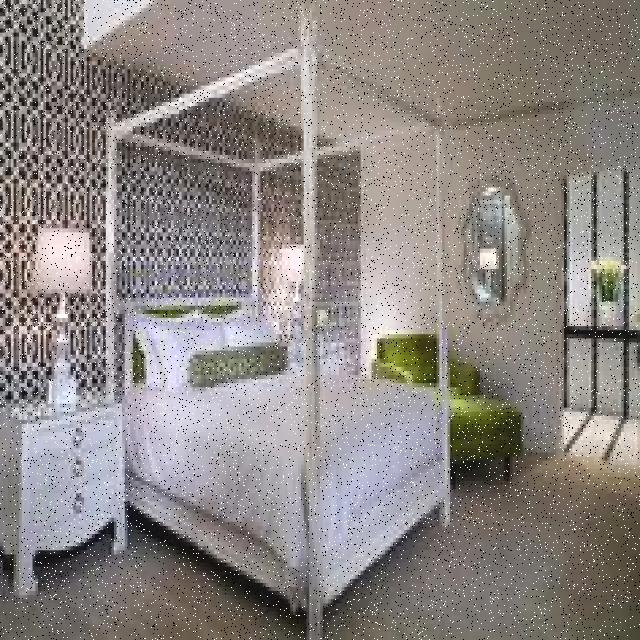bed: (119, 307, 453, 605)
